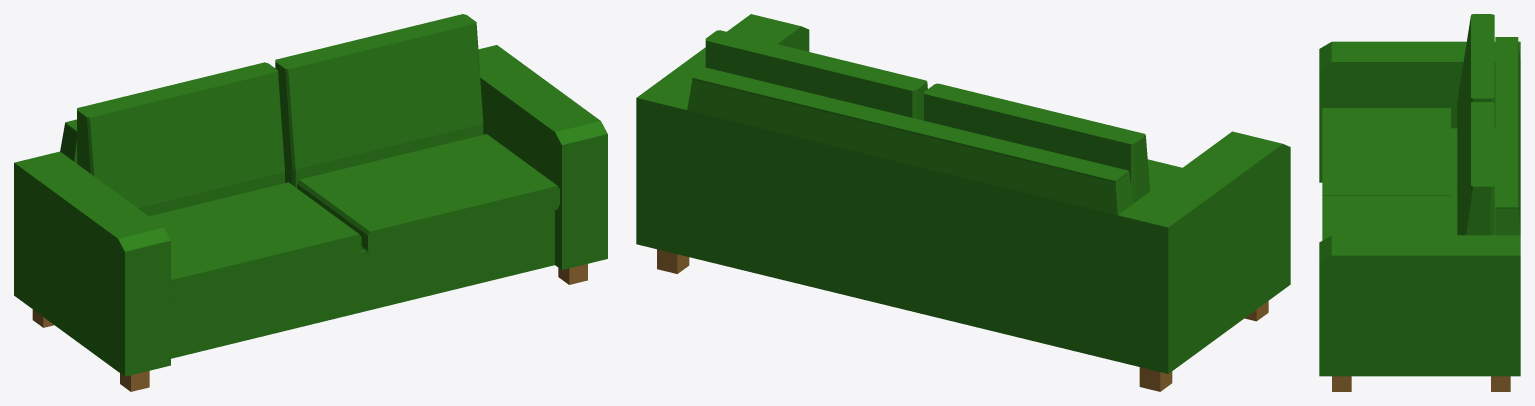
The model's file is Couch01.fbx.
3 views of the same model, side by side, from view 1: azimuth 30°, elevation 25°; view 2: azimuth 150°, elevation 25°; view 3: azimuth 270°, elevation 25° (orthographic). The views are drawn at different scales.
Visible parts, largest first — view 1: Cube; view 2: Cube; view 3: Cube.
Part boxes in pixels (left/top/right/bottom): Cube: left=14, top=14, right=607, bottom=391; Cube: left=636, top=14, right=1290, bottom=391; Cube: left=1319, top=14, right=1520, bottom=391.
Bounding box in the file's own units: 415 × 172 × 165.
